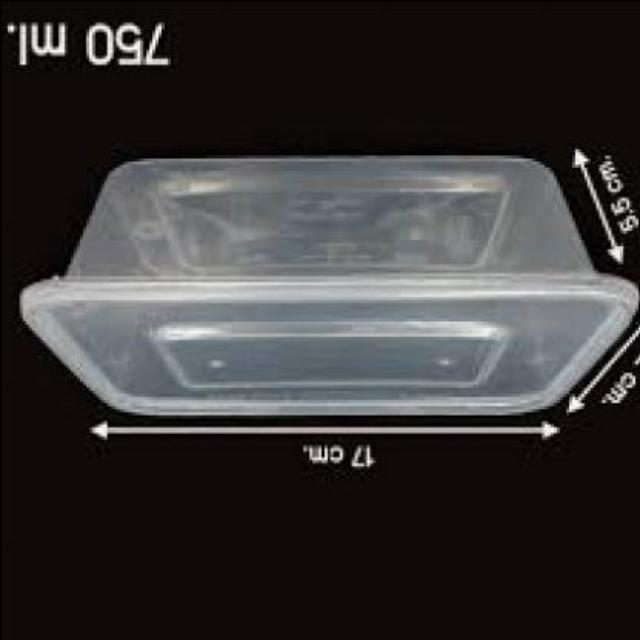plastic_box: (21, 157, 636, 410)
